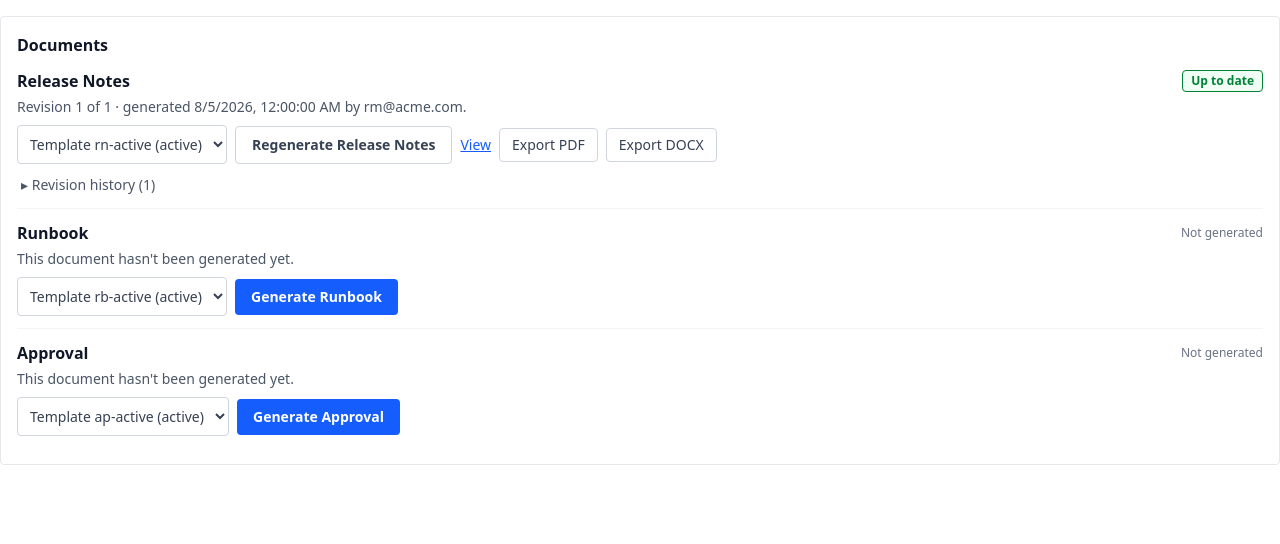
it: DocumentsSection › revisionHistoryShowsTheProducingTemplateName
The width and height of the screenshot is (1280, 544).
Expected: the heading "Release Notes" is shown, [17, 69, 130, 93]
Expected: the element that starts with "Release Notes" is shown, [17, 57, 1263, 209]
Click the button "▸ Revision history (1)".
click(88, 185)  # box [17, 175, 159, 195]
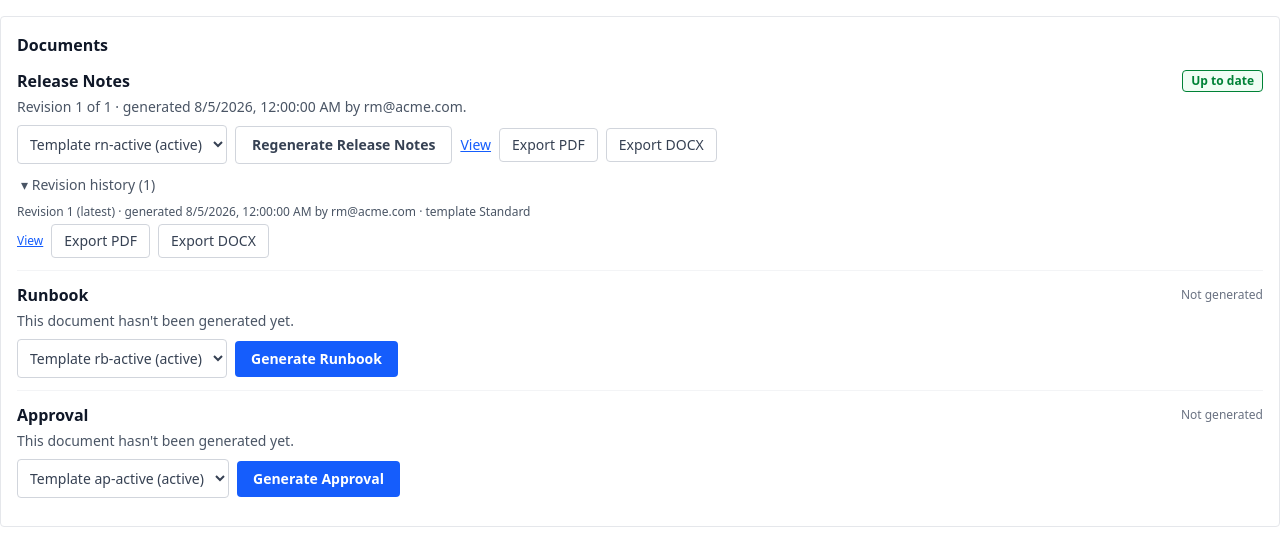
Expected: the list item shows "template Standard", [115, 203, 530, 220]
